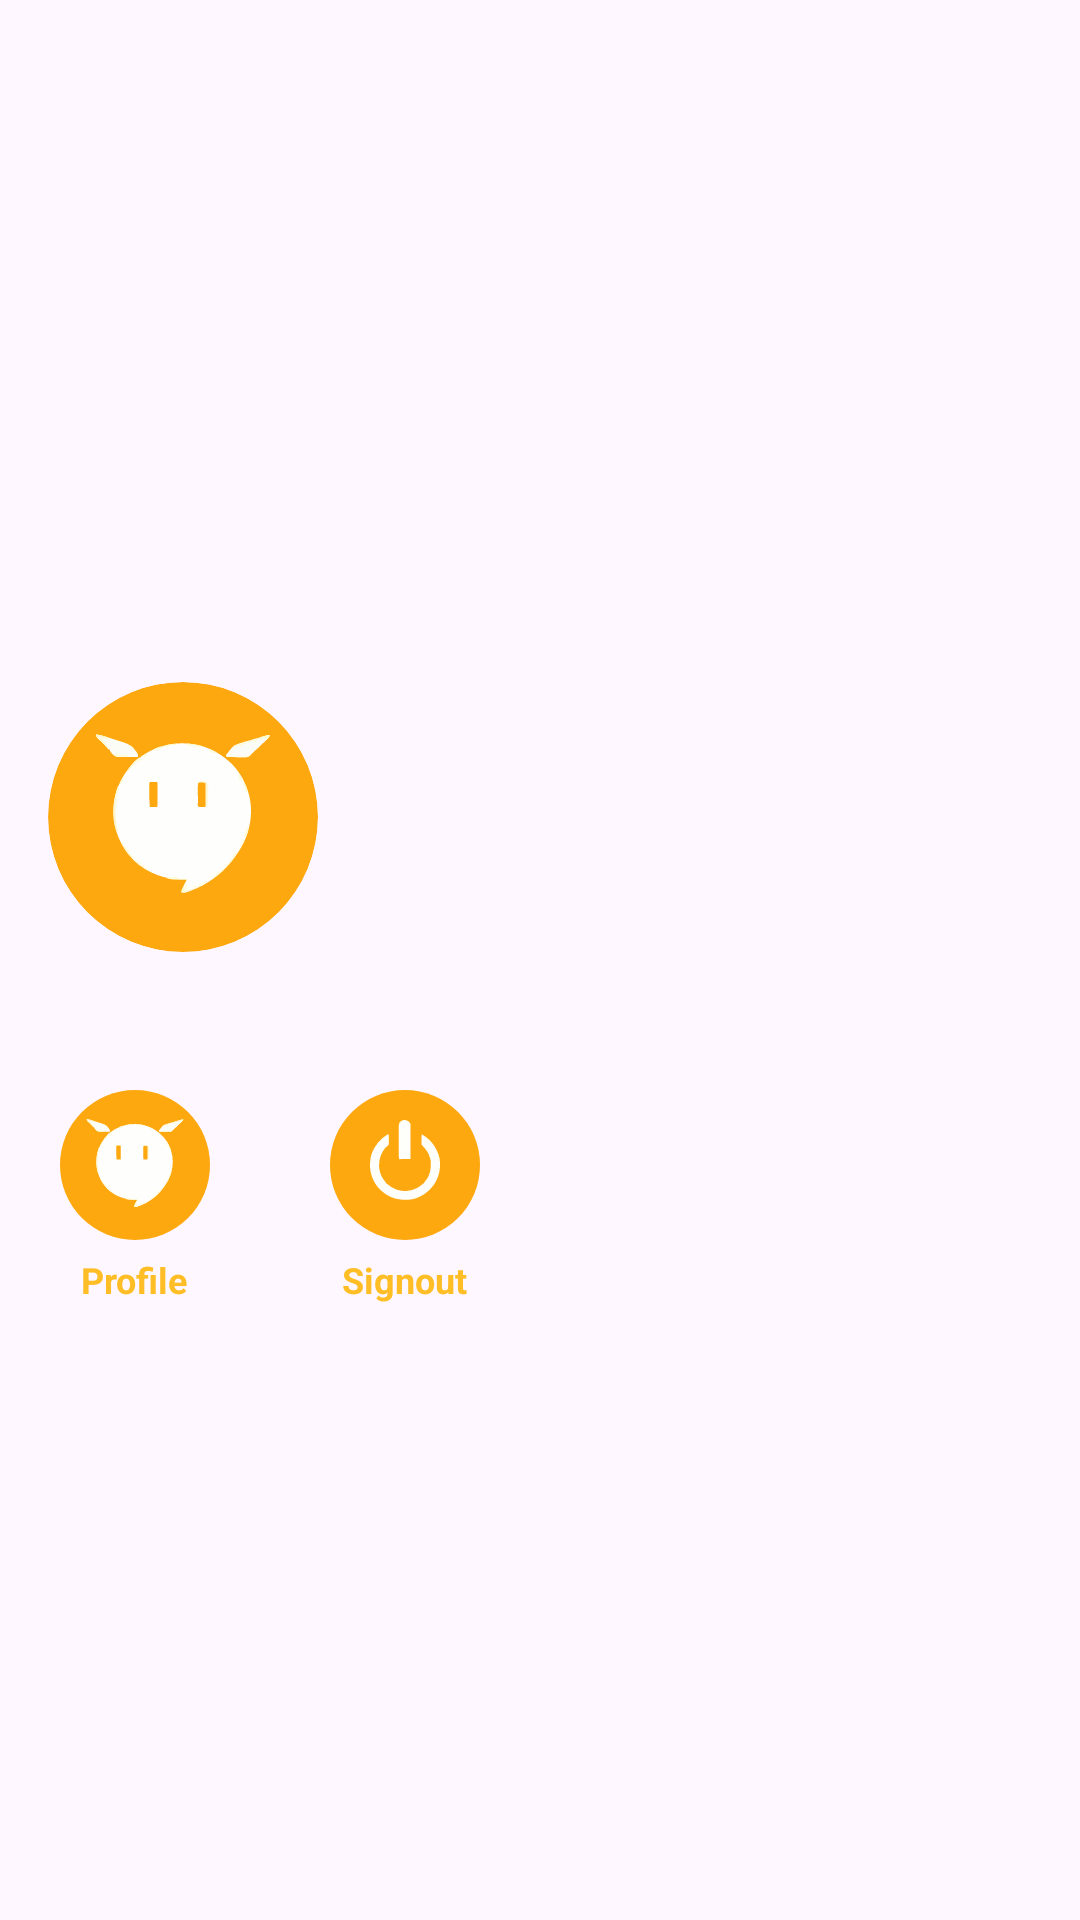

Named icons in this screenshot (1080w x 1920h) and their centers, (x=x, y=y):
user: (x=183, y=817), (x=135, y=1165)
